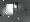person: (4, 6, 13, 19), (14, 3, 19, 10)
